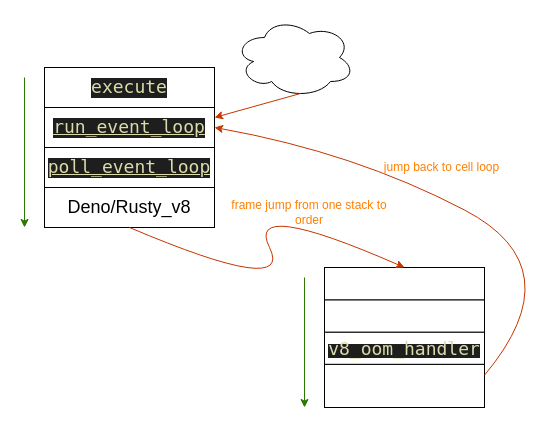
The diagram is 543 pixels wide and 433 high, and some of its shapes have lost their labels. The centre of each missing label's shape, as x and y in pixels:
"Builtins_CEntry" belongs at point (404, 283).
"long_jump" belongs at point (404, 385).
"set_jump" belongs at point (294, 57).
